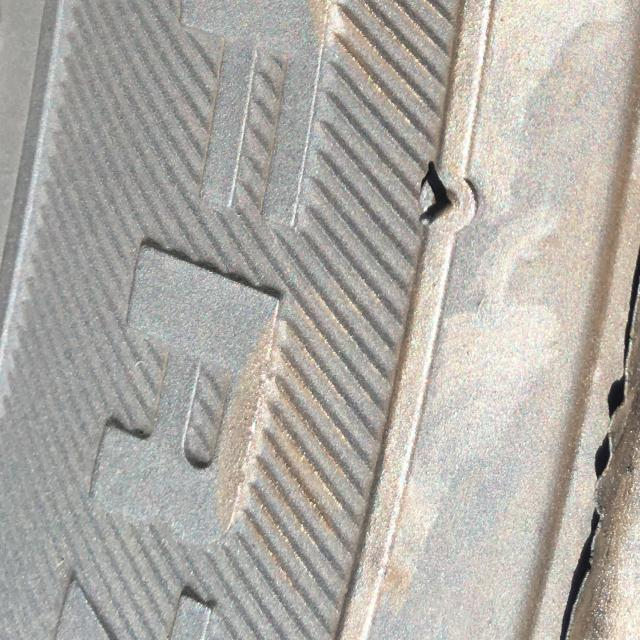Cracks: (542, 238, 640, 640), (415, 150, 465, 226)
